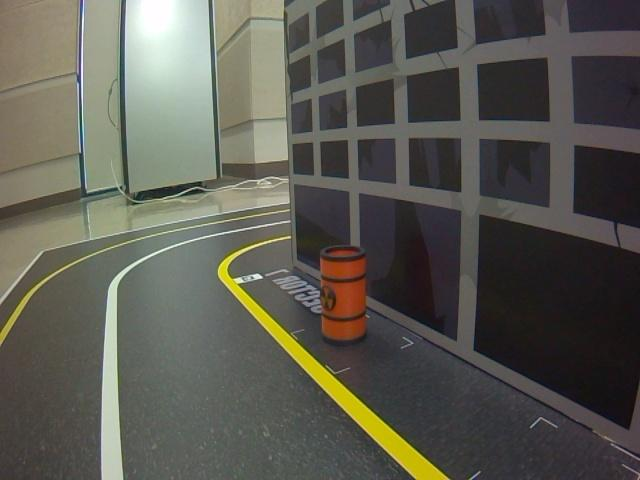Hazmat: (319, 241, 369, 345)
